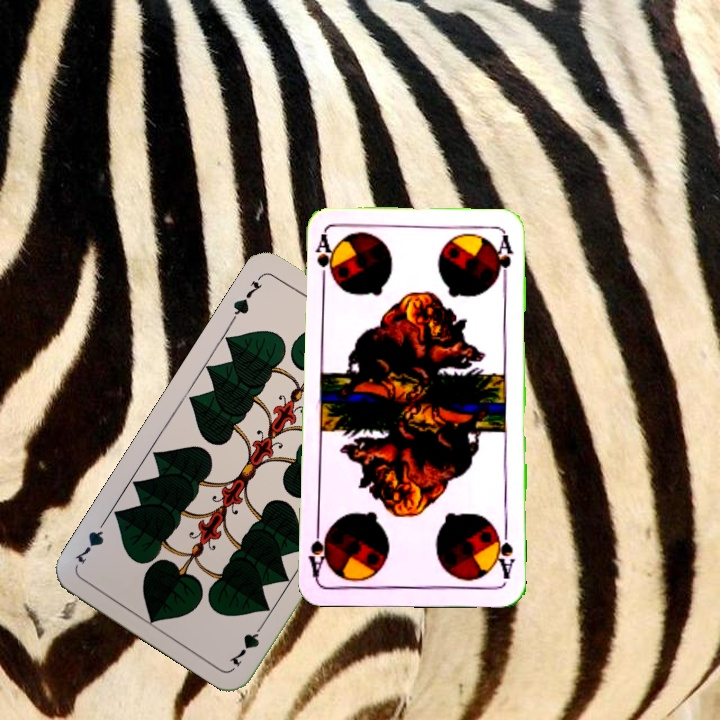G7: (226, 617, 269, 670), (227, 271, 266, 323)
SA: (491, 522, 518, 582), (311, 230, 335, 290)
